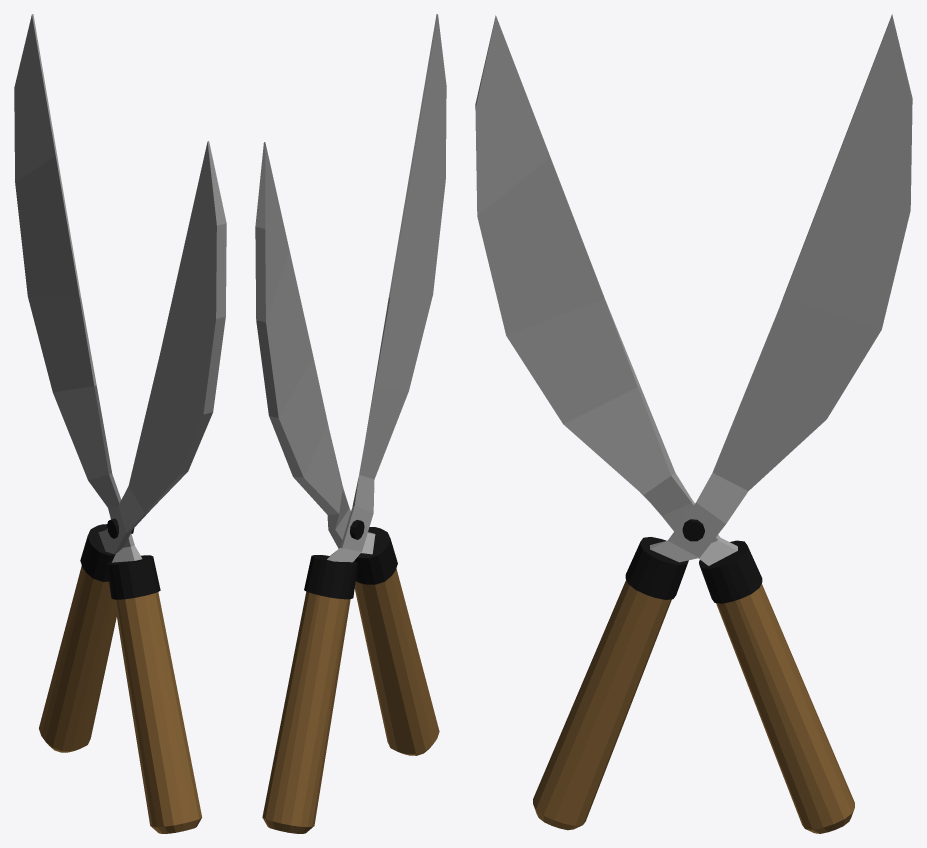
Rendered from Sheers1.fbx.
3 renders of one model, left to right at view 1: azimuth 30°, elevation 25°; view 2: azimuth 150°, elevation 25°; view 3: azimuth 270°, elevation 25°, orthographic. The views are drawn at different scales.
Parts seen in each view (by area): view 1: Cube.003, Cube.002; view 2: Cube.002, Cube.003; view 3: Cube.003, Cube.002.
Boxes of the visible parts, x1,y1,x2,y2 form: Cube.003: (14, 14, 202, 833); Cube.002: (39, 141, 226, 752); Cube.002: (262, 14, 446, 833); Cube.003: (255, 142, 439, 755); Cube.003: (533, 14, 912, 830); Cube.002: (475, 15, 854, 833).
Size of the model in its own units: 151 by 2081 by 1015.
